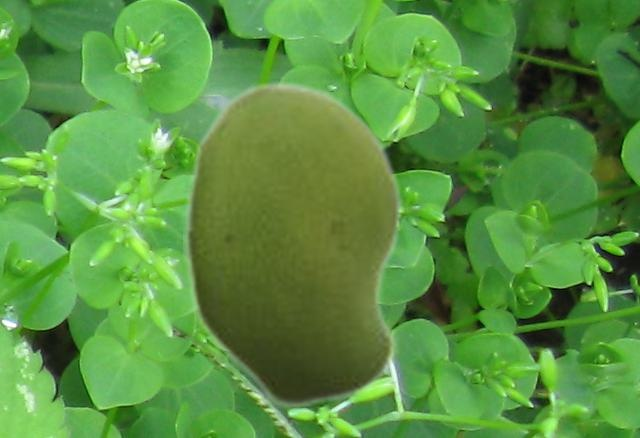green_mango: (183, 80, 403, 410)
